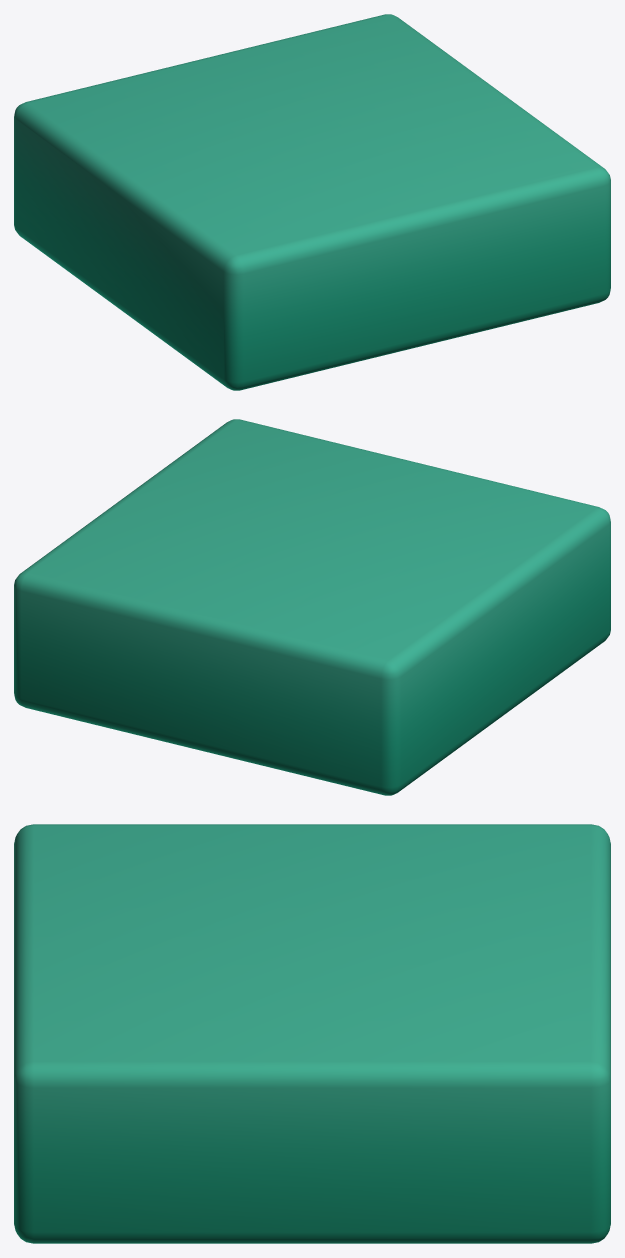
File: PLF0110120.fbx
3 views of the same model, one above another, from view 1: azimuth 30°, elevation 25°; view 2: azimuth 150°, elevation 25°; view 3: azimuth 270°, elevation 25° (orthographic). The views are drawn at different scales.
Visible parts, largest first — view 1: smPLF0110120; view 2: smPLF0110120; view 3: smPLF0110120.
Boxes of the visible parts, x1,y1,x2,y2 form: smPLF0110120: [14, 14, 610, 390]; smPLF0110120: [14, 419, 610, 795]; smPLF0110120: [14, 824, 610, 1243].
Size of the model in its own units: 442 by 147 by 442.
1 material, 1 textured.
